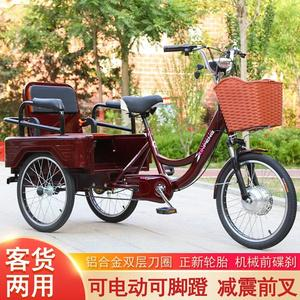empty: (3, 46, 300, 252)
